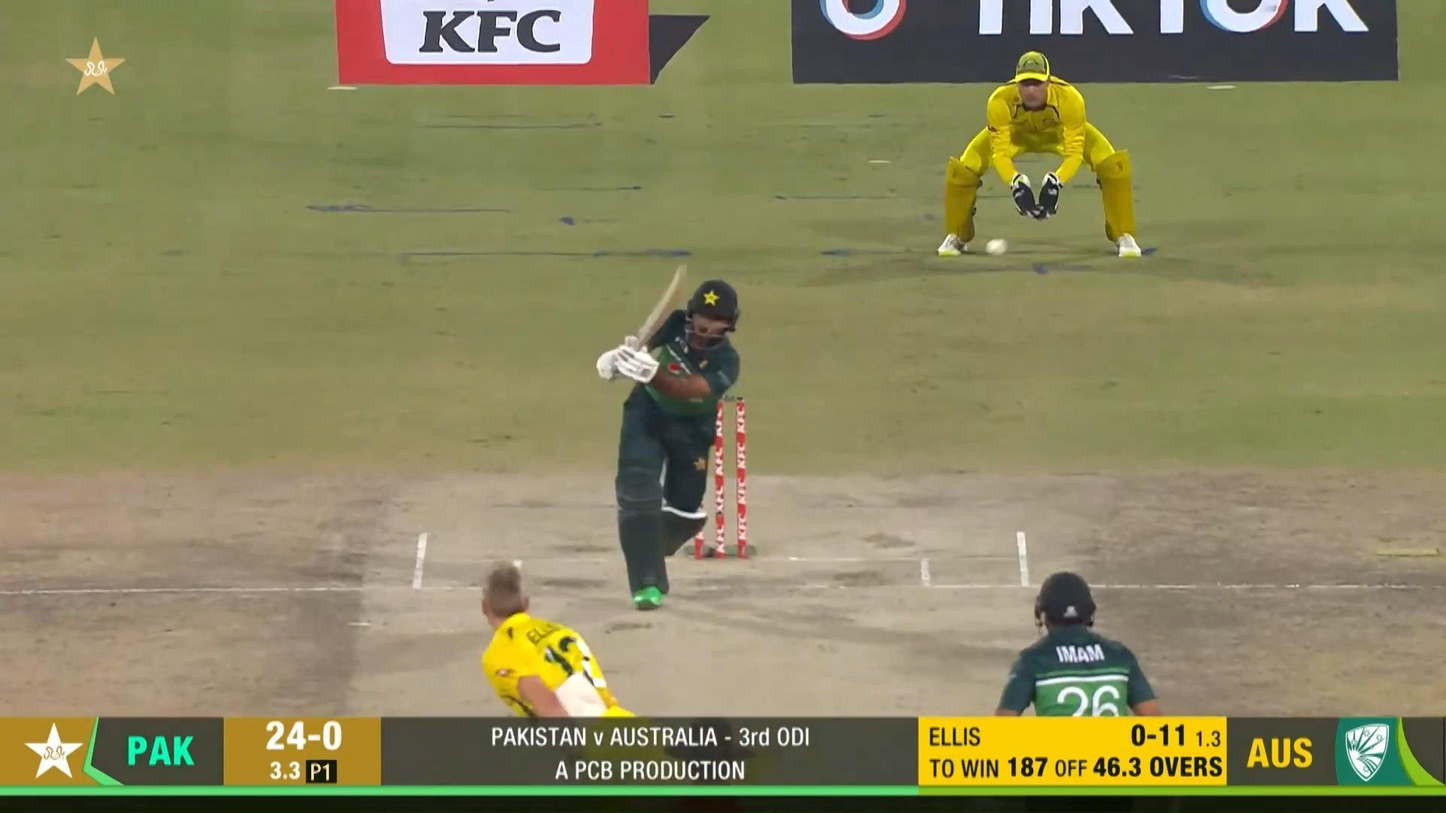BM 1: (596, 263, 743, 612)
BO: (481, 561, 636, 717)
